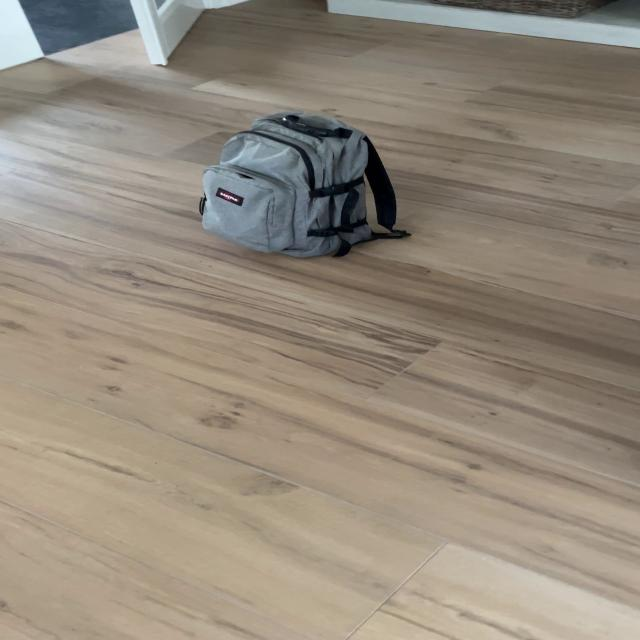backpack: (185, 106, 402, 262)
